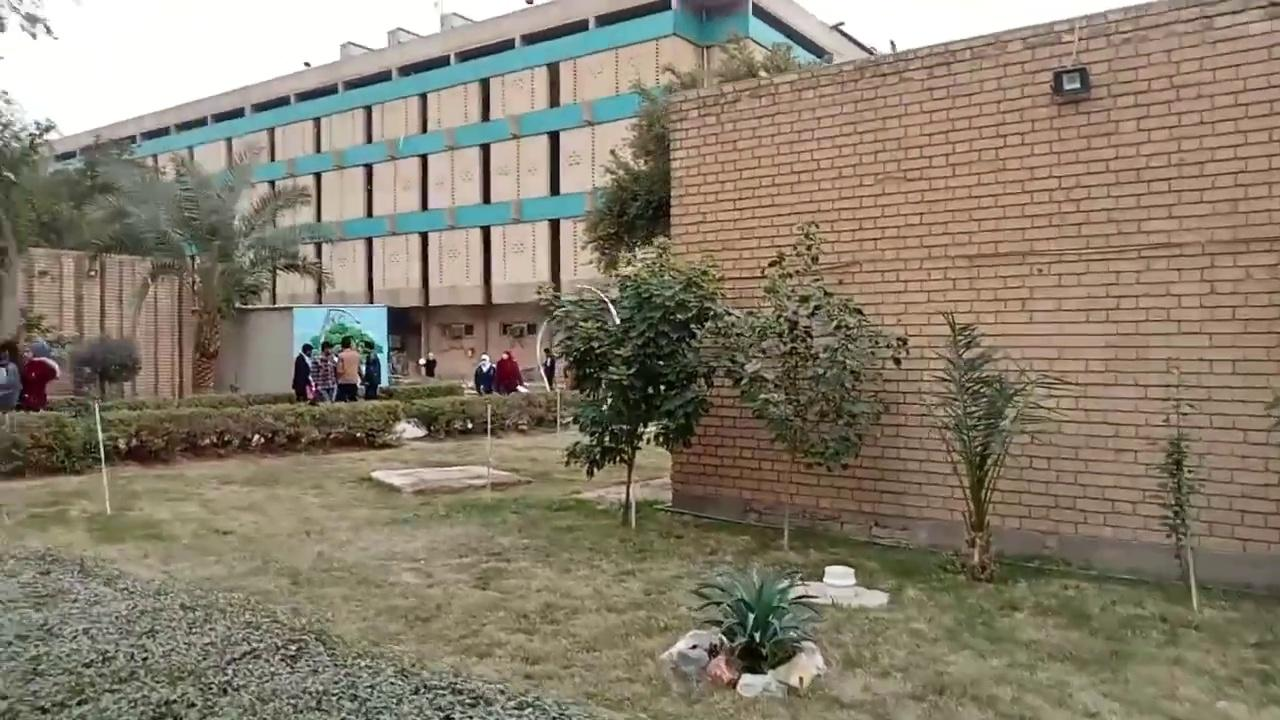person: (17, 340, 60, 411), (334, 335, 361, 402), (310, 341, 339, 402), (0, 339, 22, 411), (291, 342, 316, 403), (493, 350, 525, 396), (362, 349, 381, 399), (473, 354, 496, 395), (540, 347, 556, 391), (422, 351, 436, 378)
tree: (536, 35, 908, 528), (708, 217, 909, 547), (534, 234, 741, 528), (578, 34, 828, 277), (120, 145, 333, 396), (916, 308, 1083, 582), (0, 0, 125, 258), (46, 135, 162, 399), (1, 109, 129, 347), (1145, 363, 1209, 618), (0, 0, 62, 255), (689, 562, 825, 678), (67, 333, 142, 515), (235, 238, 328, 305), (69, 333, 141, 400), (322, 317, 375, 358)
